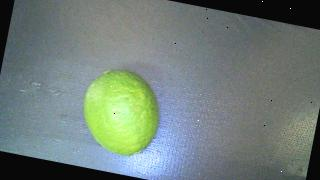EXPORTACION: (76, 63, 167, 160)
